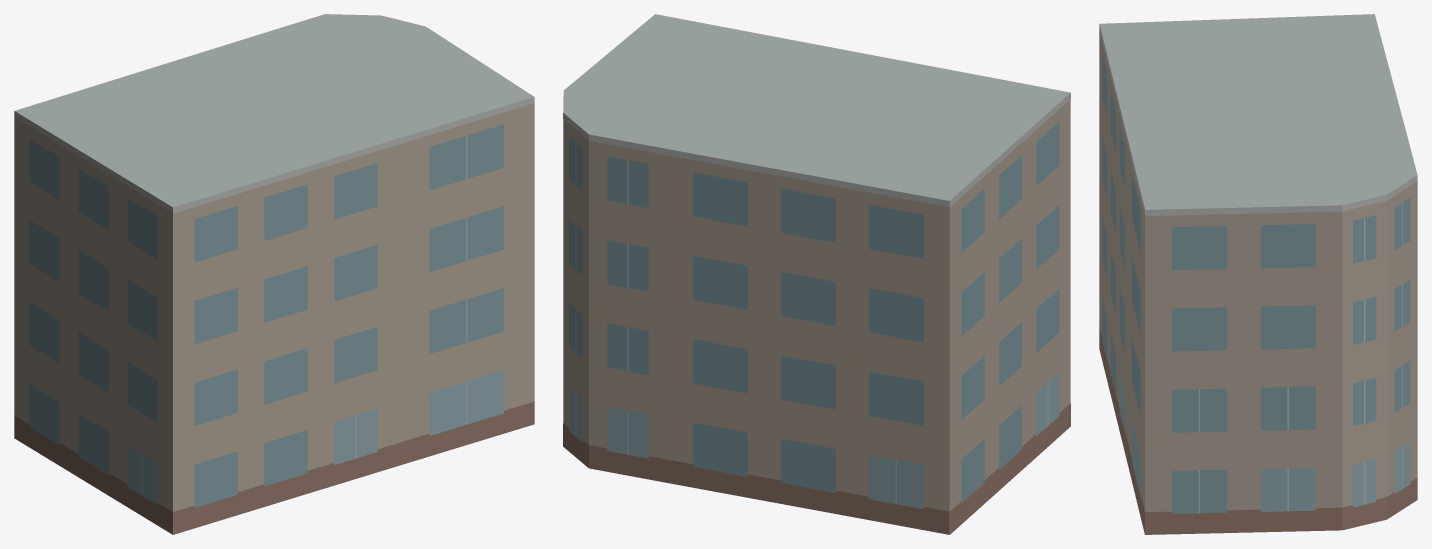
Rendered from survey-upis-32979683.glb.
The picture shows the model from 3 angles, left to right: view 1: azimuth 30°, elevation 25°; view 2: azimuth 150°, elevation 25°; view 3: azimuth 270°, elevation 25°; orthographic projection. The views are drawn at different scales.
Parts seen in each view (by area): view 1: survey-upis-32979683.tmp; view 2: survey-upis-32979683.tmp; view 3: survey-upis-32979683.tmp.
Part boxes in pixels (box(x1,y1,x2,y2)): survey-upis-32979683.tmp: box(14, 14, 534, 534); survey-upis-32979683.tmp: box(563, 14, 1070, 534); survey-upis-32979683.tmp: box(1099, 14, 1417, 534).
Bounding box in the file's own units: 16.56 × 12.8 × 11.37.
